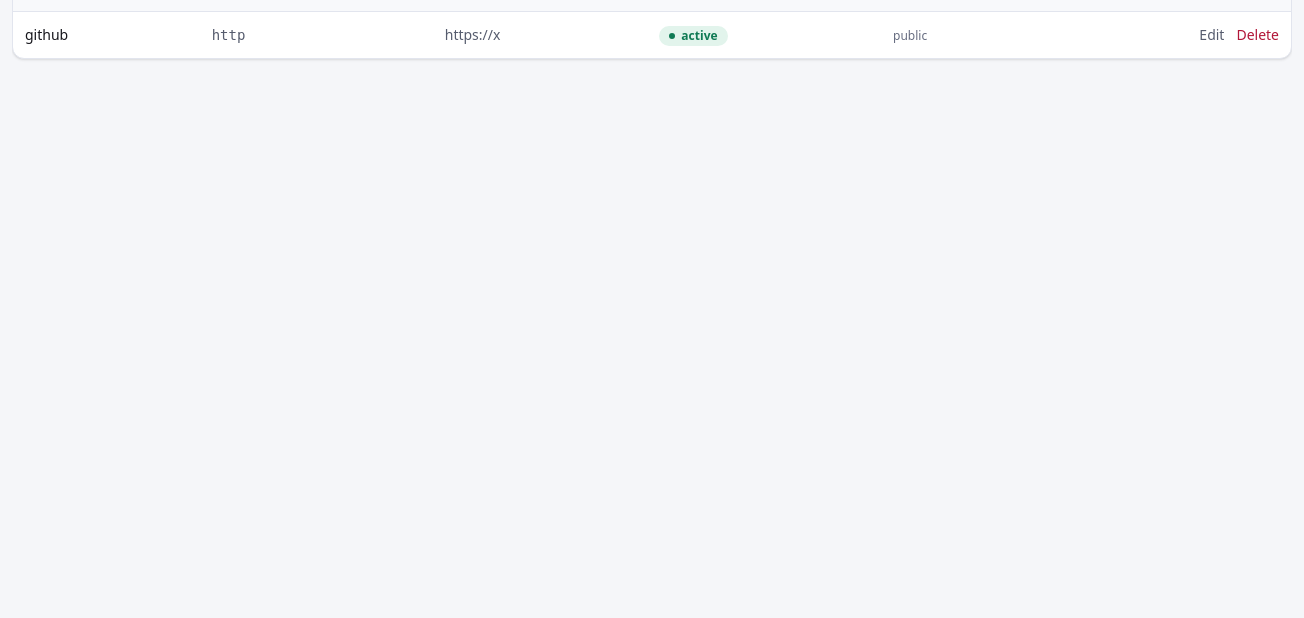
Test case: 412 on save: shows the reload message (not a 'someone else' claim), reload refetches, and the PUT is never auto-retried
Click the button "edit " at (1212, 35), box [1199,25,1224,45]
(page scrolled)
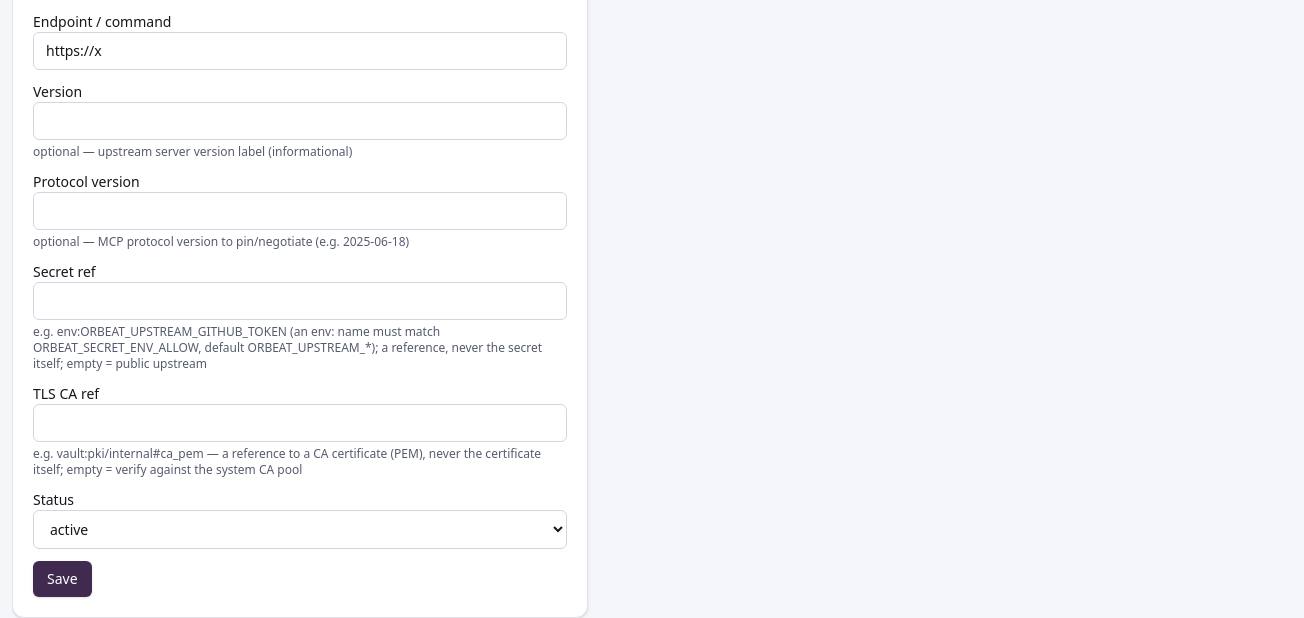
Click the button "Save" at (62, 579), box [33,561,92,597]
(page scrolled)
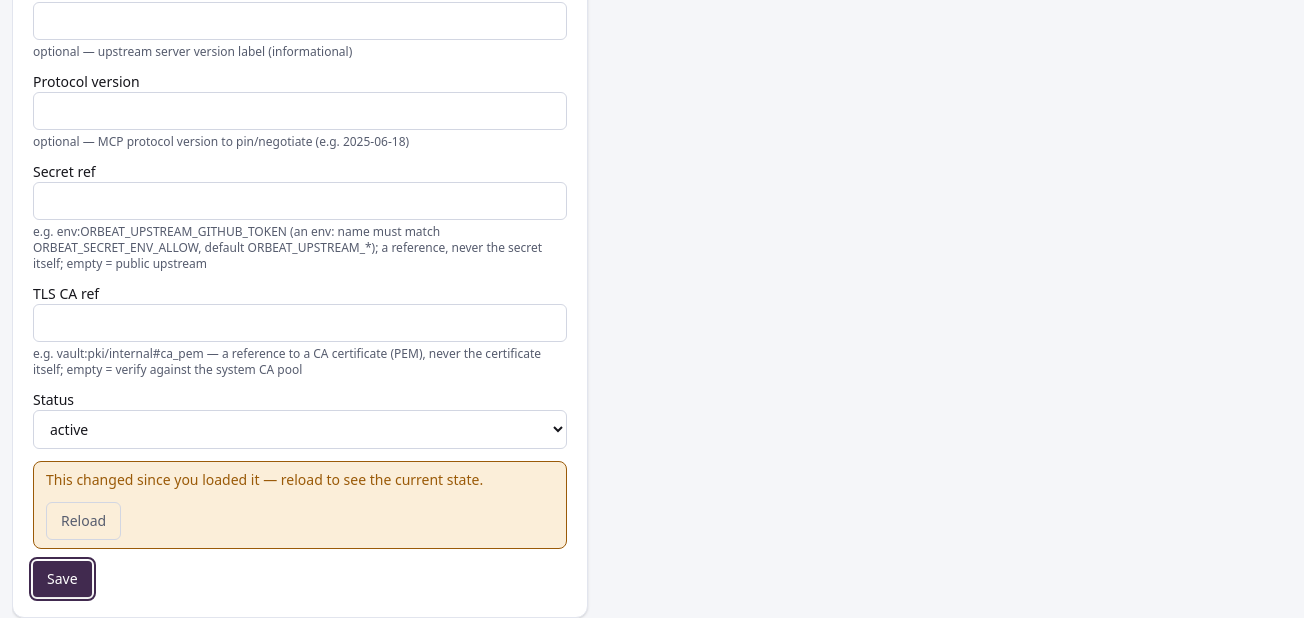
Now the text "This changed since you loaded it — reload to see the current state" is shown, box [46,470,483,489]
Click the button "Reload" at (84, 521), box [46,502,121,540]
(page scrolled)
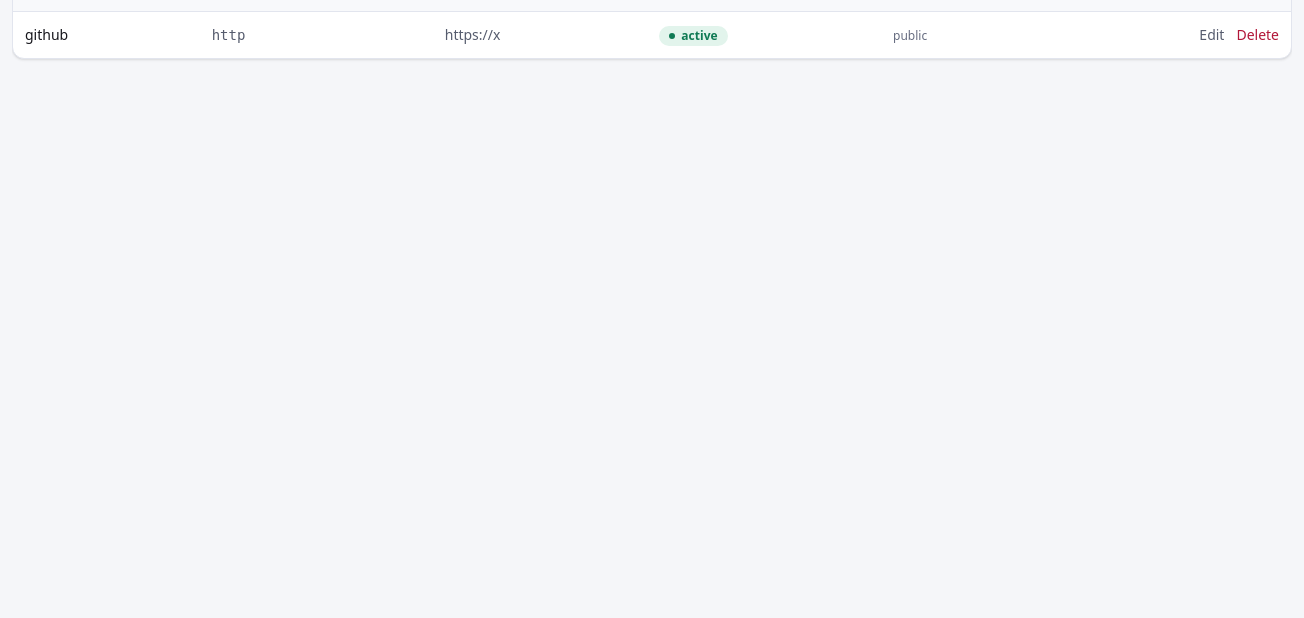
Now the button "Save" is gone
